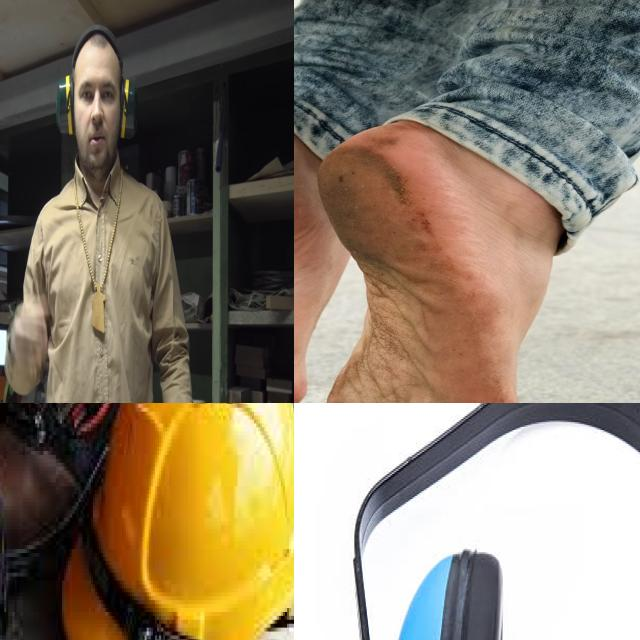Barefoots: (316, 120, 532, 403)
Ear-protection: (309, 403, 640, 640), (51, 21, 142, 187)
No_Glasses: (78, 74, 118, 112)
boots: (0, 403, 131, 574)
head_helmet: (58, 403, 294, 640)
person: (0, 5, 197, 403)
